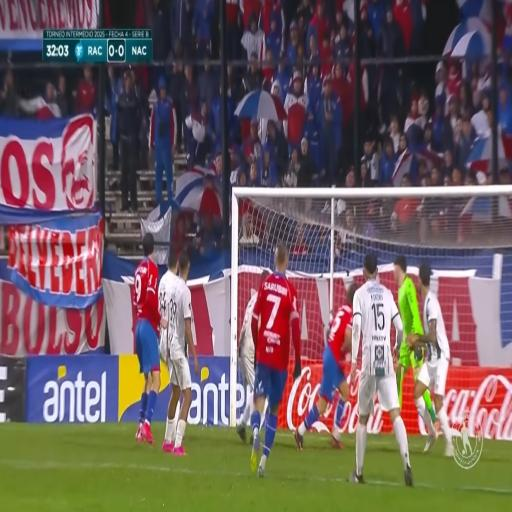Goalkeeper: (391, 246, 429, 425)
Player: (354, 247, 410, 488), (252, 250, 300, 478), (300, 282, 356, 452), (416, 266, 452, 452), (233, 249, 260, 441), (136, 231, 160, 442), (170, 254, 194, 454), (160, 249, 182, 446)
